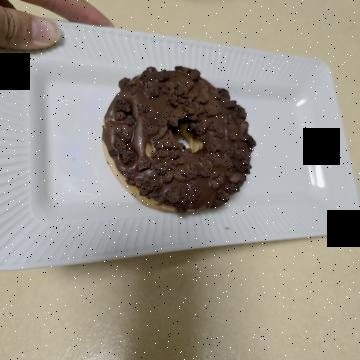doughnut: (54, 86, 224, 255)
